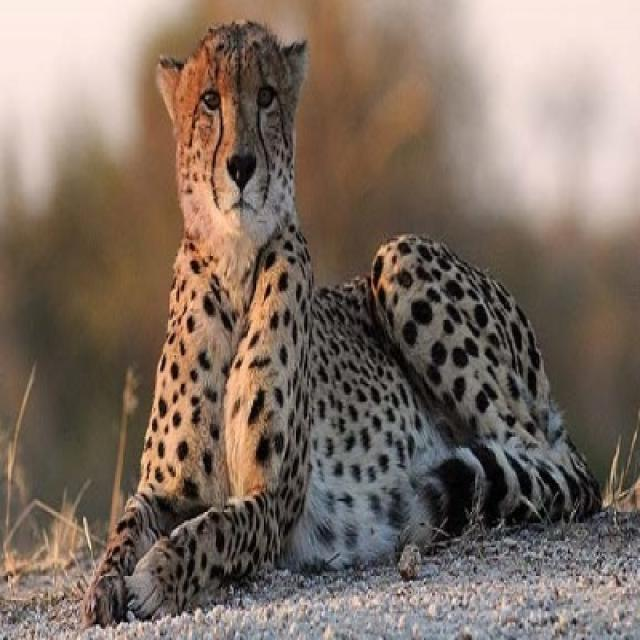Cheetah: (82, 21, 602, 629)
